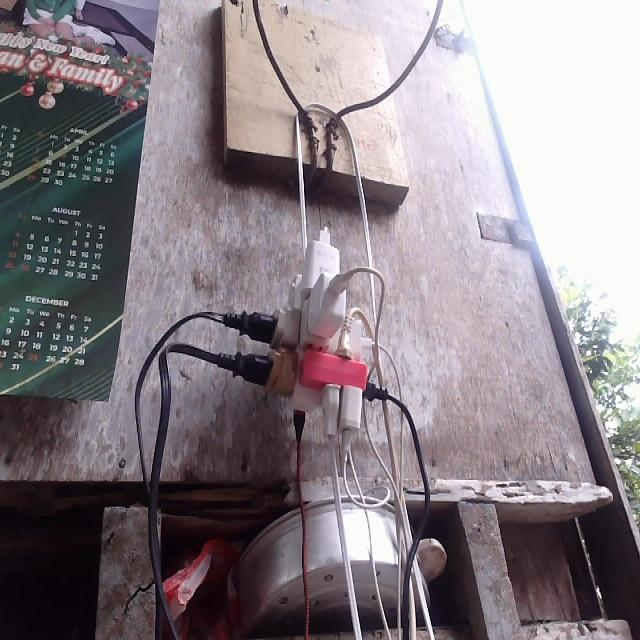-: (215, 225, 391, 468)
